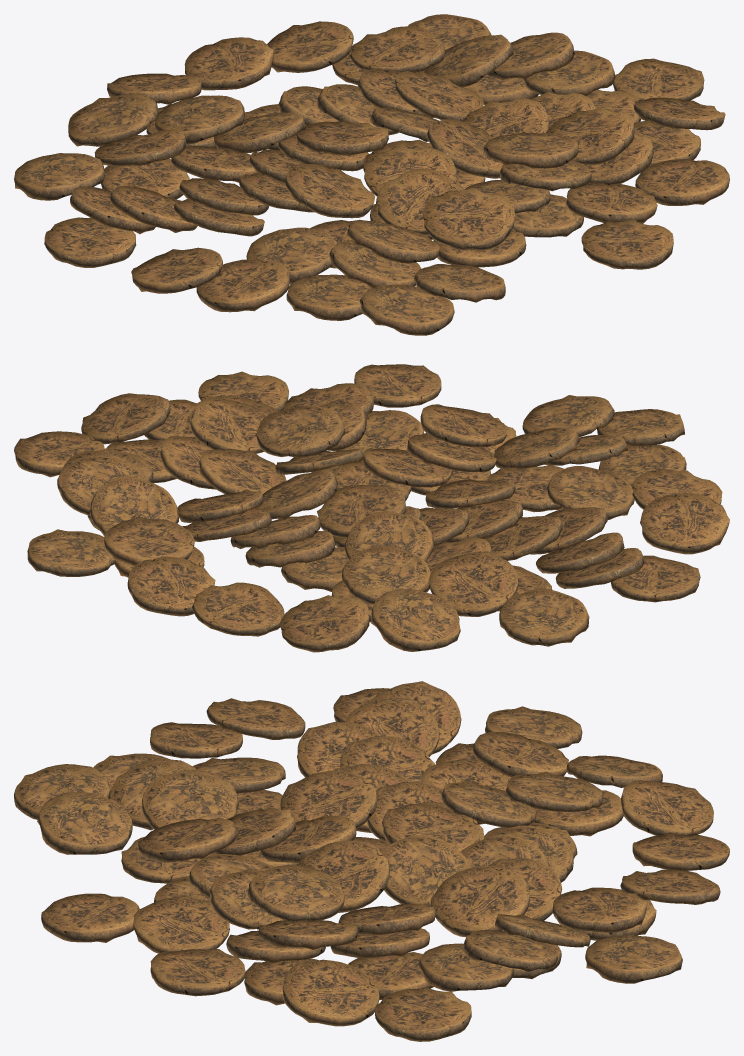
The model's file is coin.glb.
The picture shows the model from 3 angles, top to bottom: view 1: azimuth 30°, elevation 25°; view 2: azimuth 150°, elevation 25°; view 3: azimuth 270°, elevation 25°; orthographic projection. The views are drawn at different scales.
Visible parts, largest first — view 1: Coins; view 2: Coins; view 3: Coins.
Part boxes in pixels (box(x1,y1,x2,y2)): Coins: box(14, 14, 729, 335); Coins: box(14, 364, 729, 652); Coins: box(14, 681, 729, 1041).
Size of the model in its own units: 0.386 by 0.0251 by 0.3399.
Materials: 1 (1 with a texture image).
